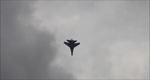maybay_muctieu: (63, 37, 81, 57)
